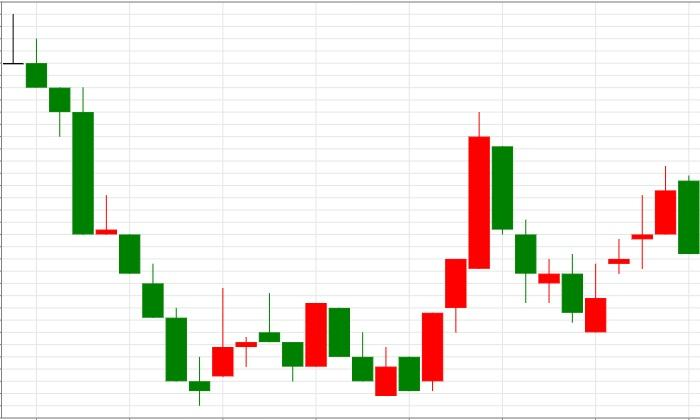morning_star_rise: (2, 15, 233, 407)
three_white_soldiers_rise: (329, 112, 490, 396)
